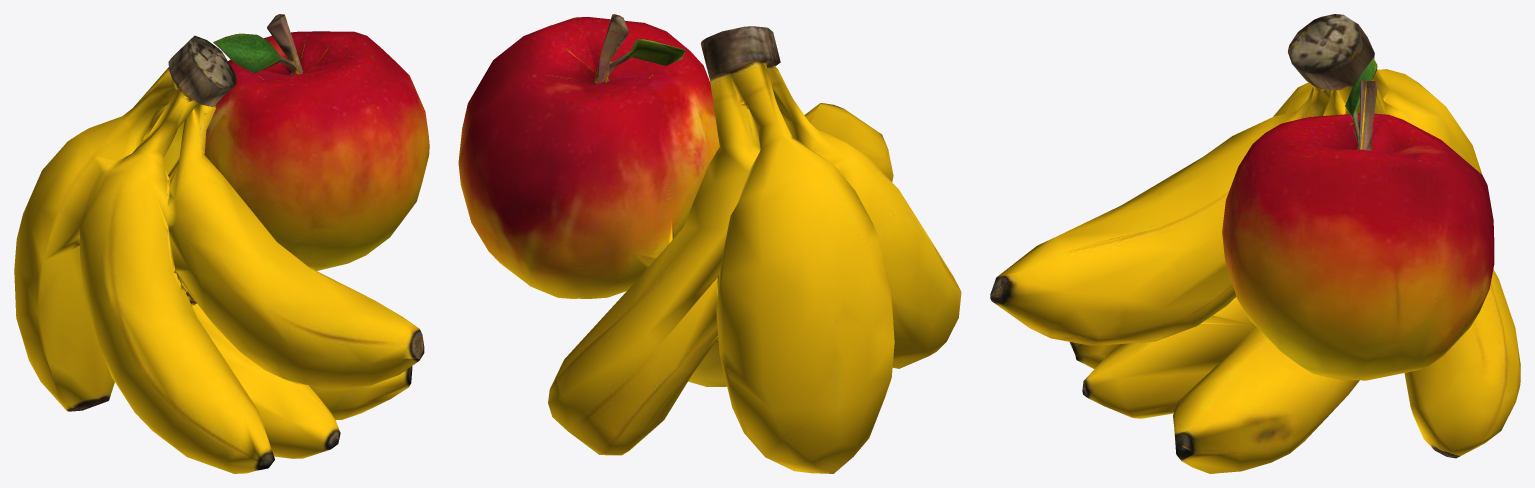
File: bananas-apple.glb
The picture shows the model from 3 angles, left to right: view 1: azimuth 30°, elevation 25°; view 2: azimuth 150°, elevation 25°; view 3: azimuth 270°, elevation 25°; orthographic projection. The views are drawn at different scales.
Parts seen in each view (by area): view 1: Mesh1.0; view 2: Mesh1.0; view 3: Mesh1.0.
Boxes of the visible parts, x1,y1,x2,y2 form: Mesh1.0: (14, 14, 429, 473); Mesh1.0: (458, 14, 961, 473); Mesh1.0: (990, 14, 1520, 473).
Size of the model in its own units: 0.136 by 0.1269 by 0.1506.
Materials: 1 (1 with a texture image).
